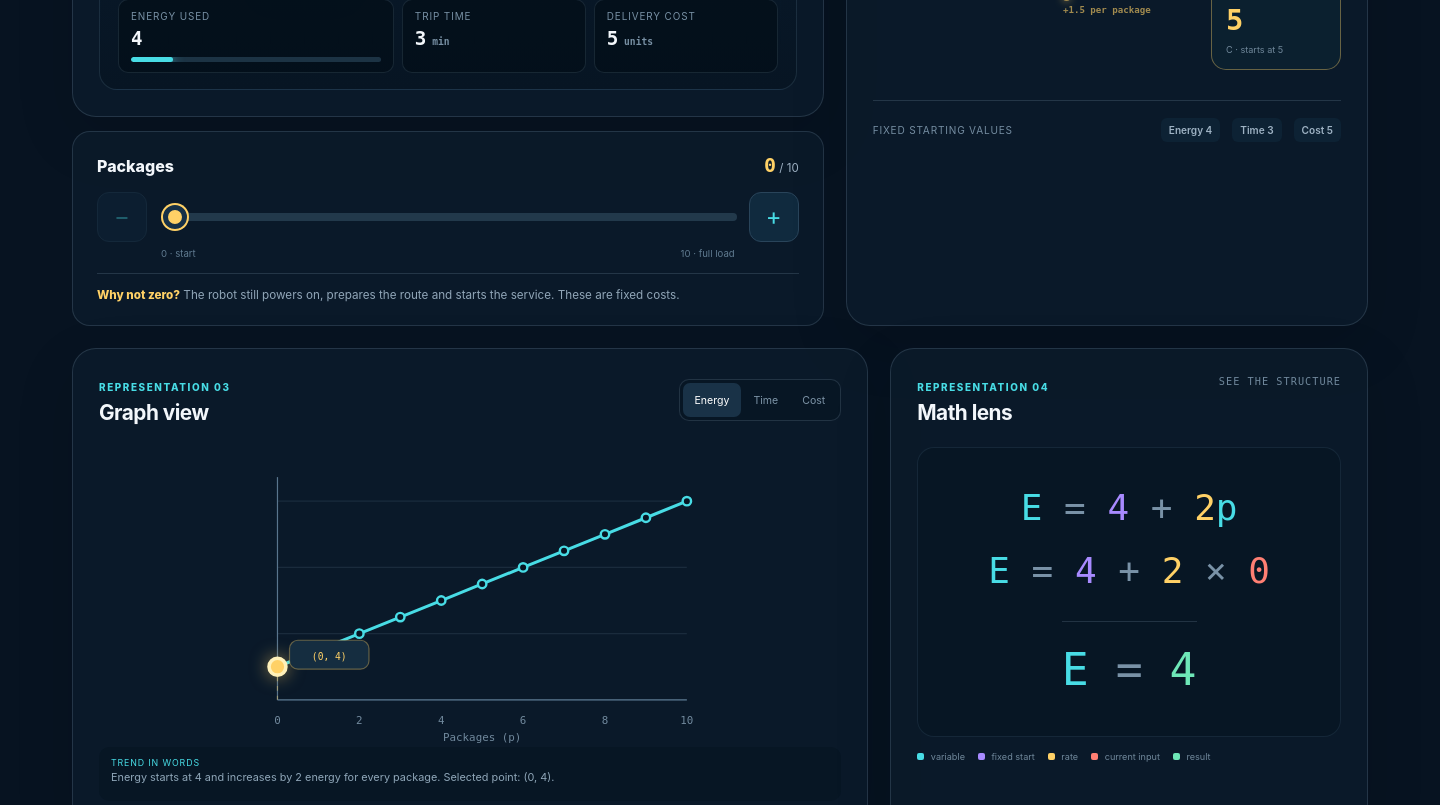
Test: Relationship Lab interactions › switches the graph metric and updates its text alternative
The width and height of the screenshot is (1440, 805).
(page scrolled)
Click the button "Cost" at (814,400), box left=790, top=383, right=837, bottom=417
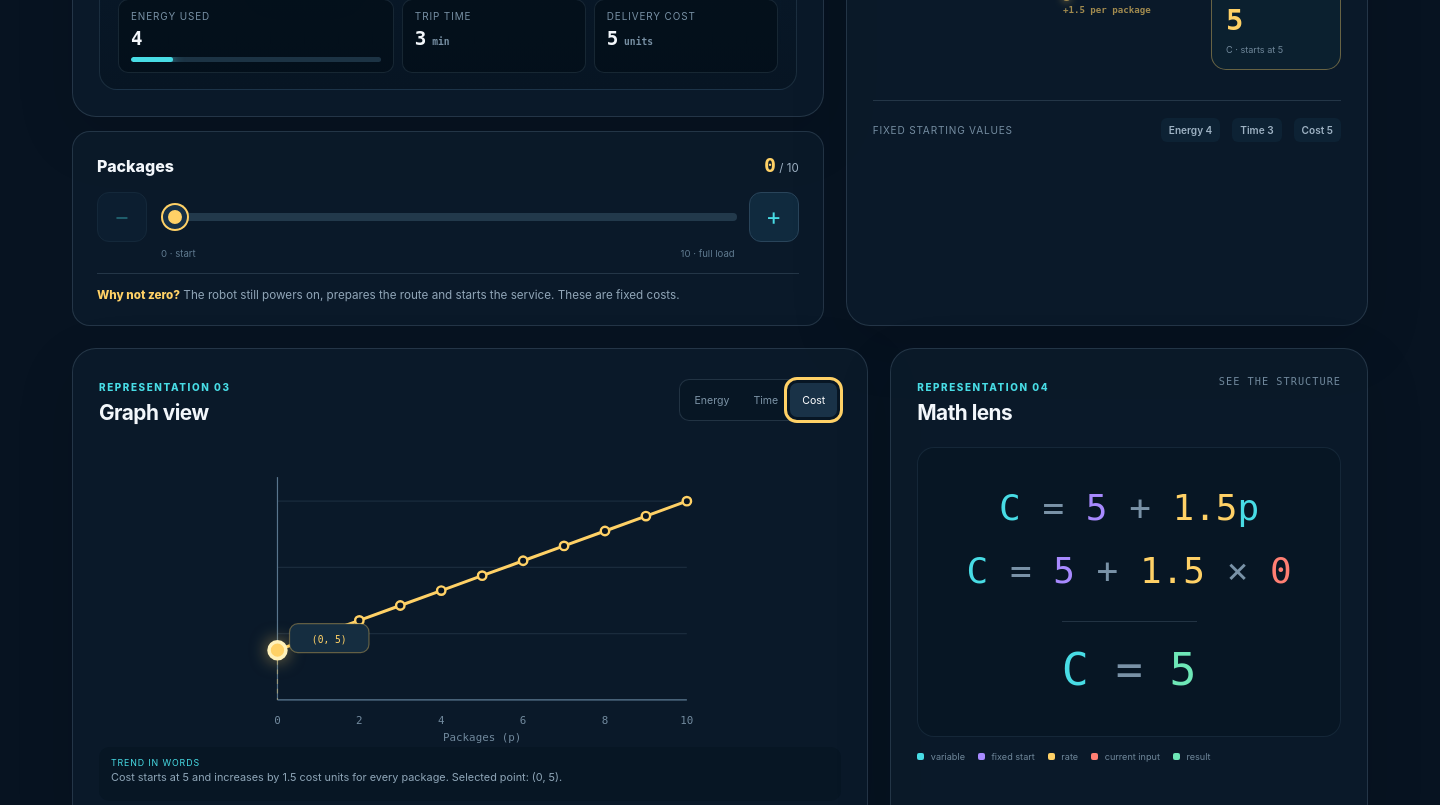
Check: the text "Cost starts at 5 and increases by 1.5" is shown, box left=99, top=747, right=841, bottom=801
